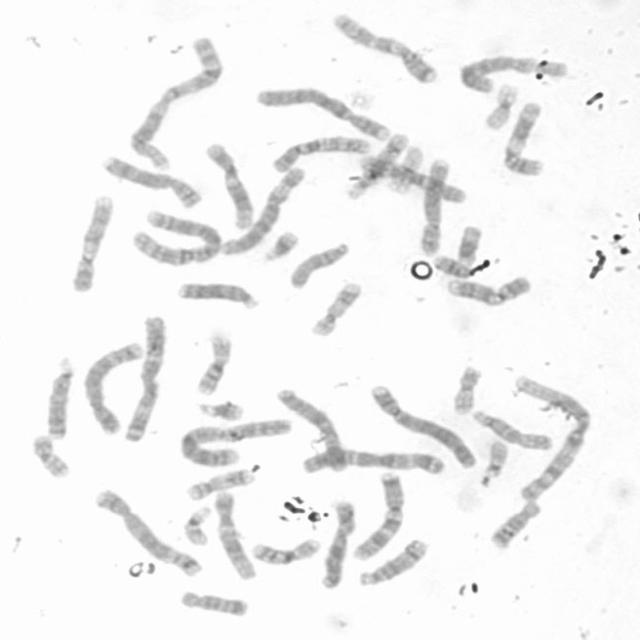A1: (128, 35, 223, 174), (509, 374, 594, 502)
A2: (178, 417, 292, 469), (129, 210, 222, 269)
A3: (121, 313, 169, 444), (301, 448, 448, 478)
B4: (369, 384, 477, 471), (255, 85, 396, 142)
B5: (92, 488, 208, 579), (83, 340, 144, 435)
C10: (356, 154, 468, 206), (271, 136, 374, 174)
C11: (500, 102, 548, 180), (431, 225, 482, 280)
C12: (205, 142, 255, 231), (212, 491, 258, 581)
C6: (218, 166, 306, 257), (456, 53, 570, 95)
C7: (330, 12, 441, 84), (350, 472, 407, 564)
C8: (99, 155, 204, 210), (420, 157, 450, 257)
C9: (71, 192, 113, 293), (446, 275, 534, 307)
D13: (172, 279, 262, 310), (45, 354, 75, 440)
D14: (344, 131, 410, 203), (357, 538, 431, 586)
D15: (471, 410, 554, 452), (289, 242, 349, 290)
E16: (194, 335, 236, 397), (252, 538, 322, 567)
E17: (308, 279, 363, 337), (183, 469, 254, 503)
E18: (489, 500, 541, 551), (180, 588, 250, 618)
F19: (386, 145, 426, 195), (482, 82, 520, 131)
F20: (32, 433, 72, 480), (452, 364, 483, 415)
G21: (262, 229, 300, 263), (198, 399, 246, 422)
G22: (479, 440, 511, 488), (184, 506, 214, 547)
X: (273, 387, 350, 474), (318, 500, 358, 590)
